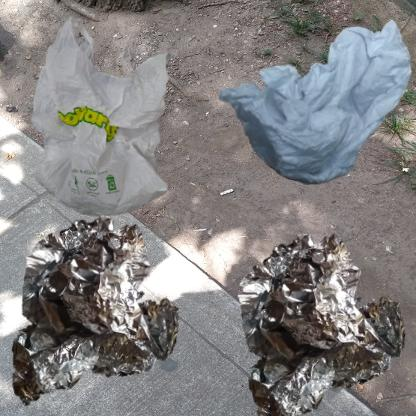aluminio: (213, 213, 416, 416), (10, 213, 182, 409)
bolsa: (10, 10, 213, 246)
papel: (213, 10, 416, 191)
